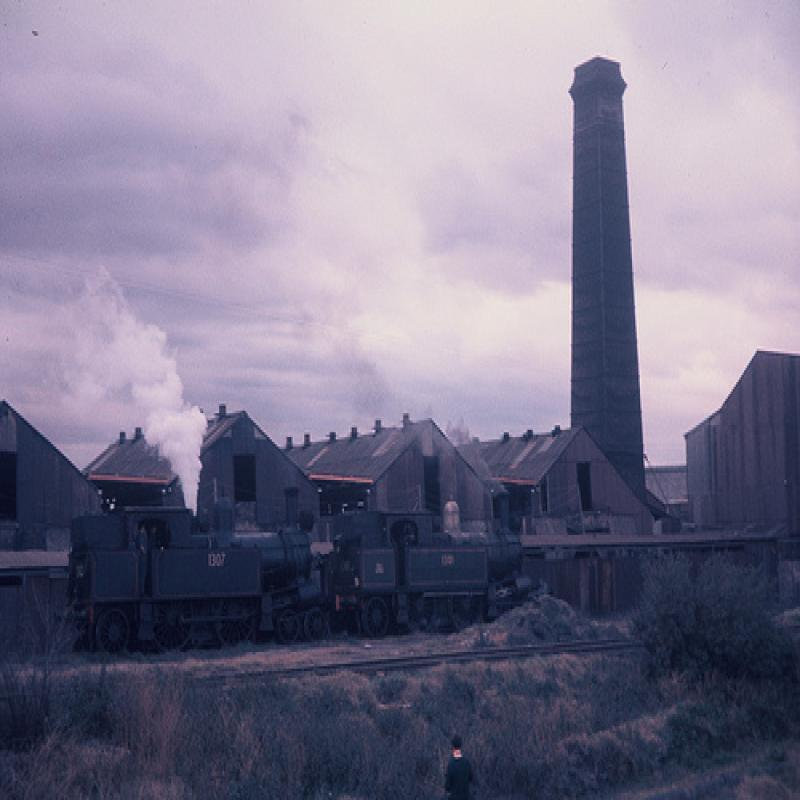train: (68, 503, 529, 656)
